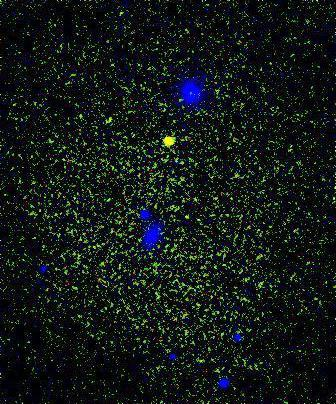star: (154, 127, 184, 157)
